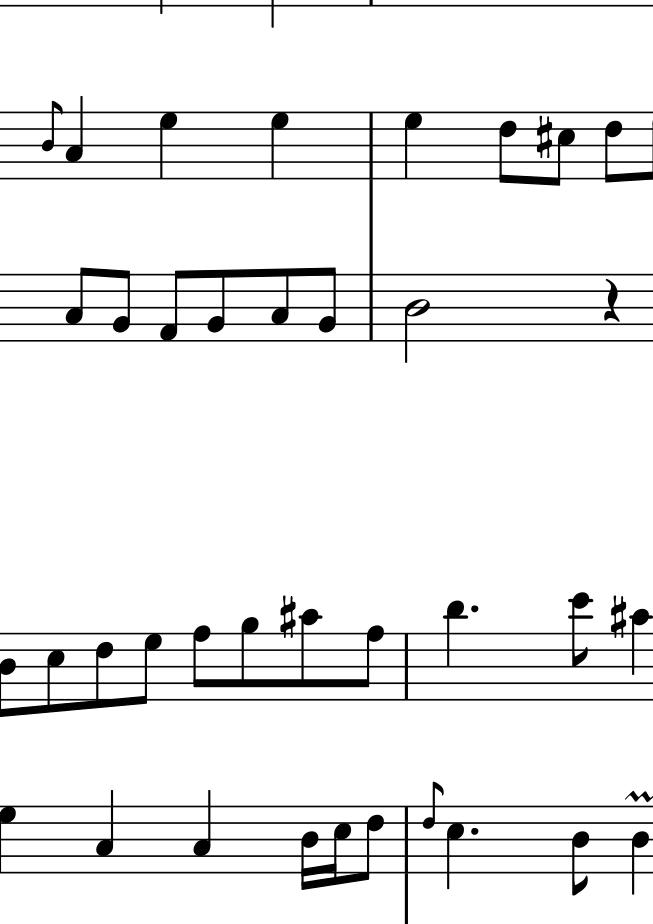16_4: (302, 800, 322, 892)
2_4: (404, 271, 433, 367)
4_10: (629, 606, 653, 702)
4_11: (444, 600, 465, 702)
4_3: (92, 787, 116, 875), (65, 95, 88, 183), (190, 790, 212, 877)
4_4: (629, 804, 650, 895)
4_5: (445, 803, 466, 893)
4_7: (402, 110, 424, 181), (157, 112, 179, 180), (269, 112, 290, 180)
8_1: (159, 270, 185, 342)
8_10: (298, 608, 322, 704)
8_12: (569, 592, 593, 704)
8_2: (317, 266, 339, 344), (112, 269, 134, 343), (207, 268, 228, 344)
8_3: (63, 266, 93, 341), (551, 110, 576, 188), (270, 268, 291, 343)
8_4: (570, 803, 590, 897)
8_5: (326, 799, 353, 887), (46, 632, 65, 715)
8_6: (361, 803, 386, 881), (93, 632, 115, 711), (497, 110, 520, 185)
8_7: (133, 632, 161, 705)
8_8: (356, 624, 383, 703), (192, 625, 212, 704), (604, 110, 623, 186)
8_9: (240, 615, 261, 703)
Appoggiature: (422, 780, 444, 876), (41, 100, 64, 182)
Rests4: (600, 275, 624, 325)
Sharp: (533, 112, 555, 157), (278, 594, 299, 640), (609, 596, 627, 638)
ShortTrill: (622, 788, 653, 803)
Single_barline: (359, 110, 384, 180), (395, 807, 419, 872), (360, 274, 380, 342), (396, 635, 417, 699)
dot: (465, 821, 482, 841), (467, 825, 481, 838), (468, 603, 481, 616)
